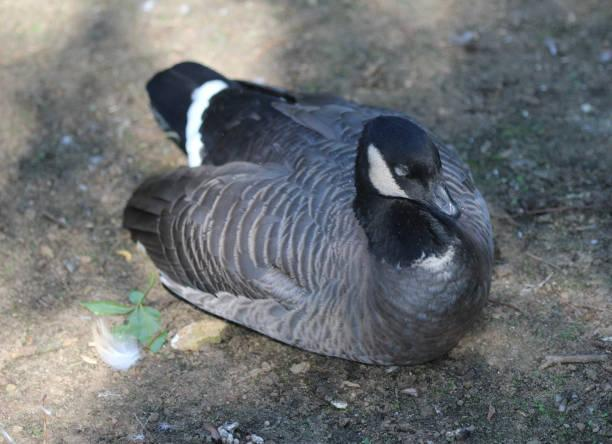Canadian-Goose: (130, 62, 496, 372)
